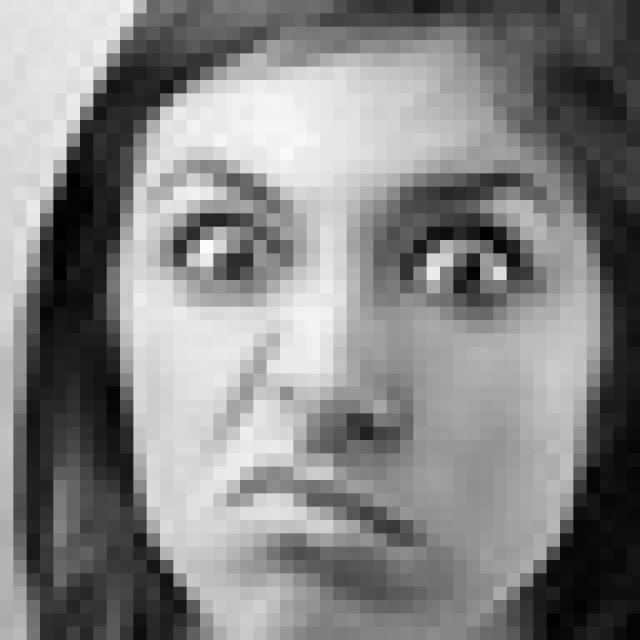disgust: (136, 152, 562, 604)
